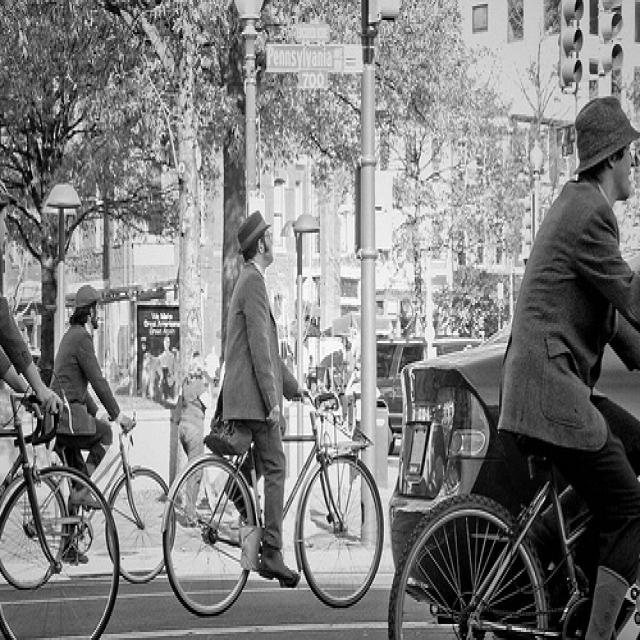Vehicle: (391, 322, 533, 569), (374, 341, 482, 450)
